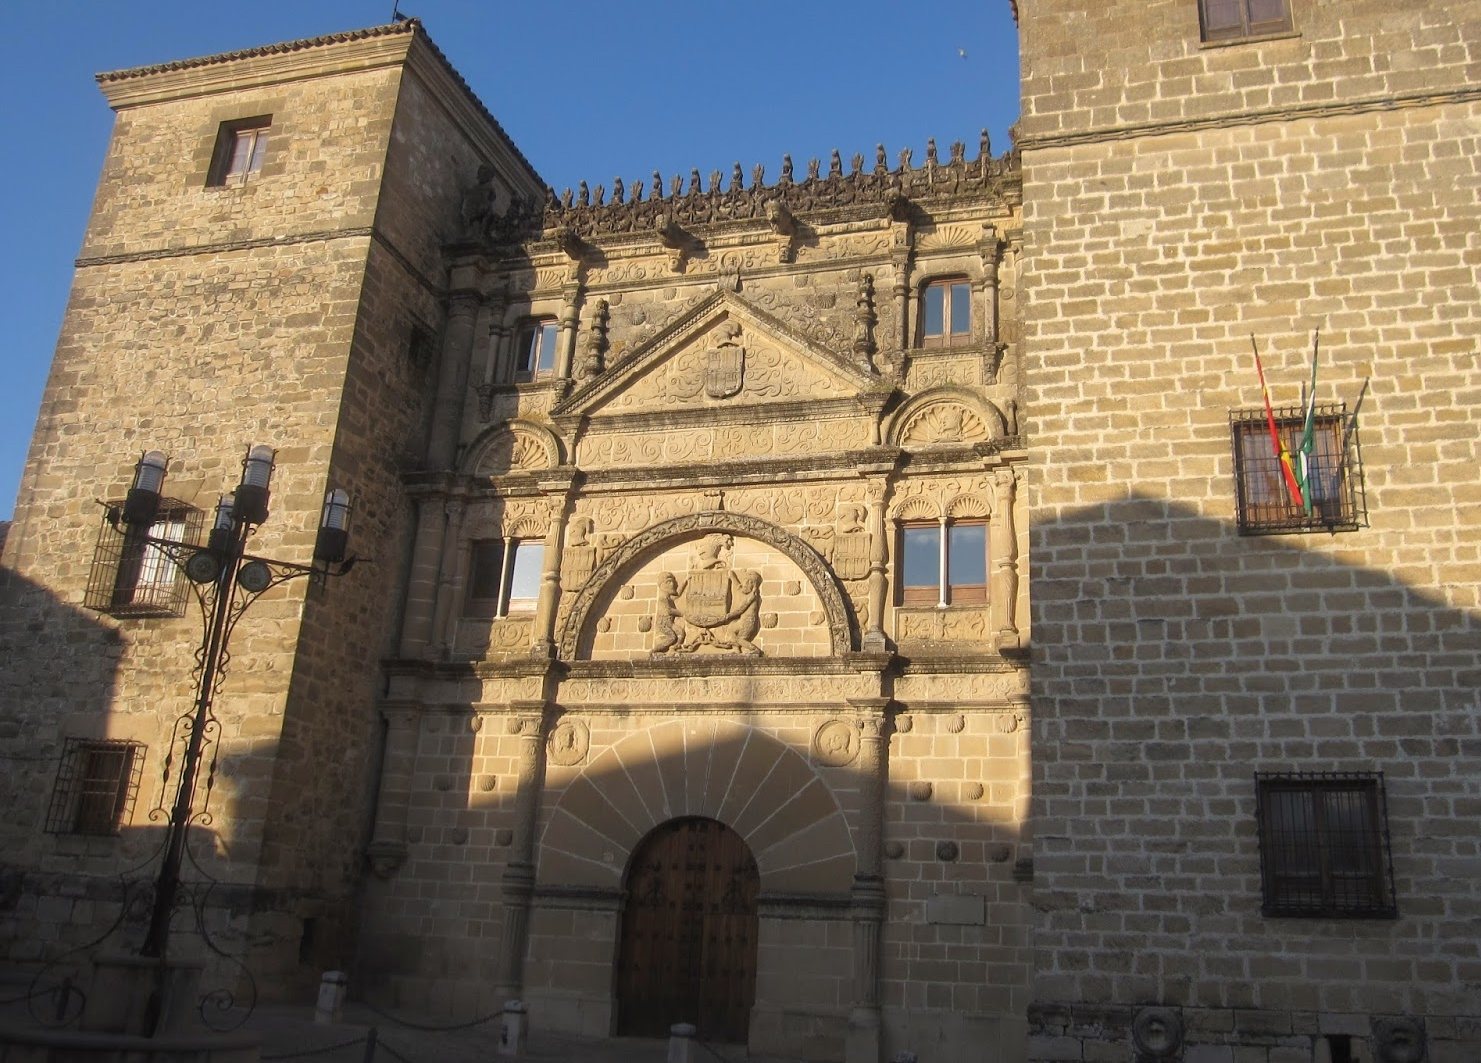arco-medio-punto: (609, 806, 768, 924)
fronton: (543, 286, 895, 427)
